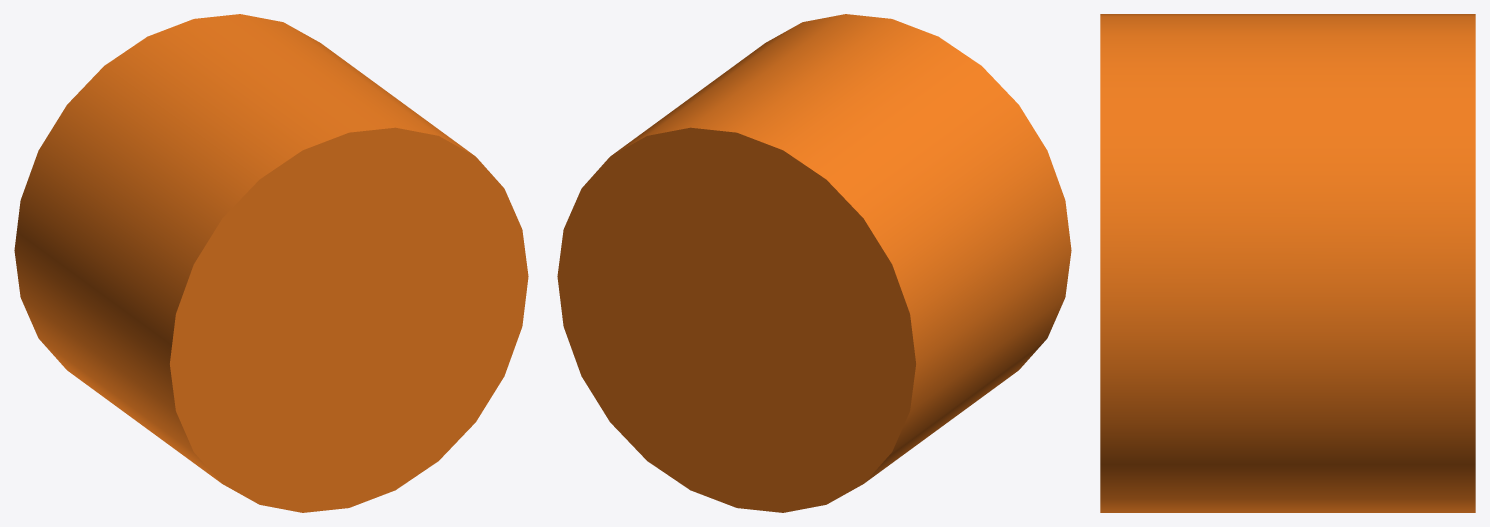
The picture shows the model from 3 angles, left to right: view 1: azimuth 30°, elevation 25°; view 2: azimuth 150°, elevation 25°; view 3: azimuth 270°, elevation 25°; orthographic projection. The views are drawn at different scales.
Parts seen in each view (by area): view 1: gripper_frame; view 2: gripper_frame; view 3: gripper_frame.
Part boxes in pixels (box(x1,y1,x2,y2)): gripper_frame: box(14, 14, 528, 512); gripper_frame: box(557, 14, 1071, 512); gripper_frame: box(1100, 14, 1475, 512).
Bounding box in the file's own units: 0.016 × 0.016 × 0.012.
